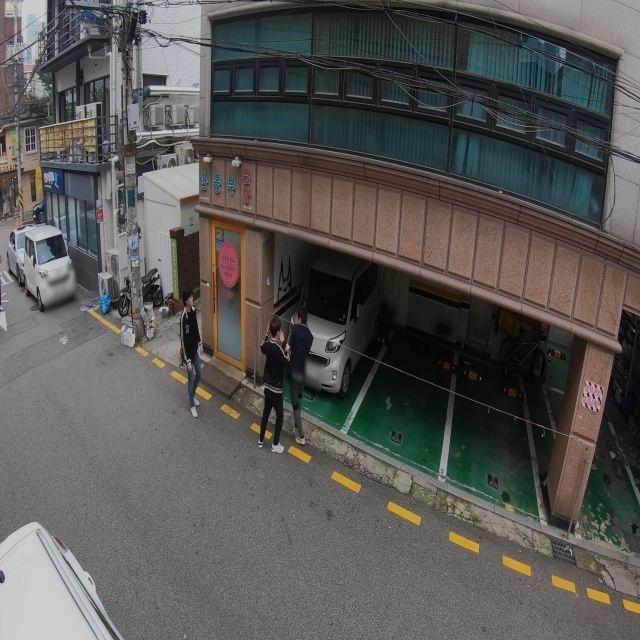fight: (259, 319, 291, 452), (286, 307, 312, 444)
non-fight: (180, 294, 203, 416)
